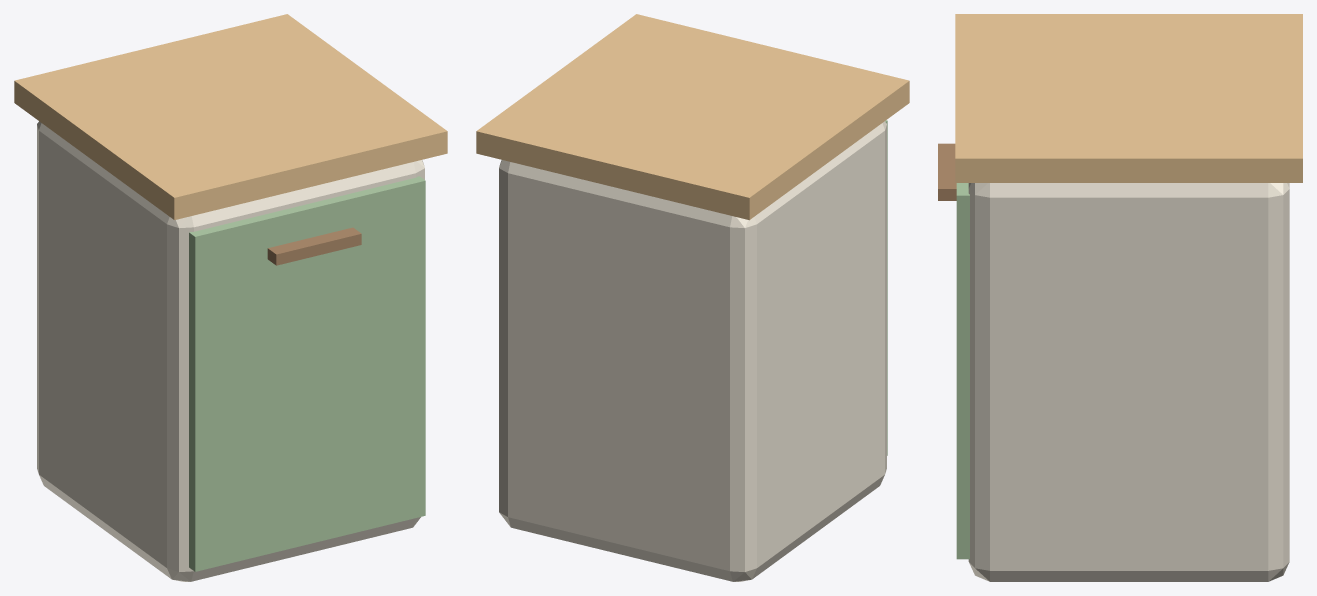
Rendered from cozy-home-interiors-base-cabinet-a1f01fe2.glb.
3 renders of one model, left to right at view 1: azimuth 30°, elevation 25°; view 2: azimuth 150°, elevation 25°; view 3: azimuth 270°, elevation 25°, orthographic. The views are drawn at different scales.
Parts seen in each view (by area): view 1: base-cabinet; view 2: base-cabinet; view 3: base-cabinet.
Boxes of the visible parts, x1,y1,x2,y2 form: base-cabinet: (14,14,447,581); base-cabinet: (476,14,909,581); base-cabinet: (938,14,1302,581).
Size of the model in its own units: 0.64 by 0.9 by 0.6825.
